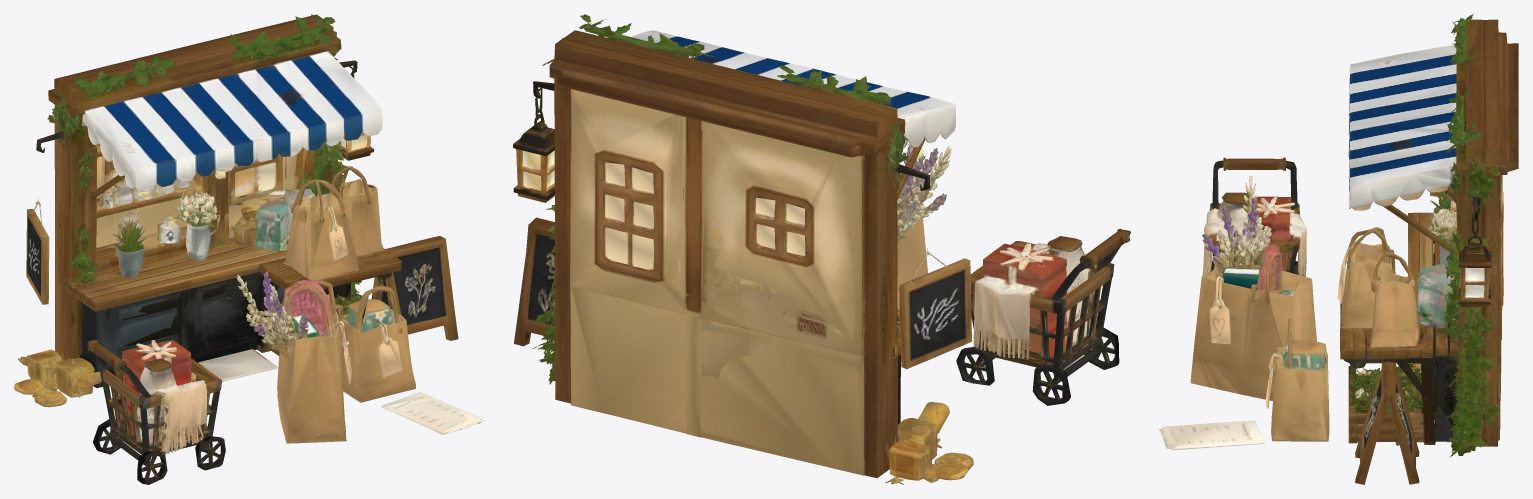
Rendered from buy.glb.
3 renders of one model, left to right at view 1: azimuth 30°, elevation 25°; view 2: azimuth 150°, elevation 25°; view 3: azimuth 270°, elevation 25°, orthographic. The views are drawn at different scales.
Parts seen in each view (by area): view 1: mesh_node; view 2: mesh_node; view 3: mesh_node.
Part boxes in pixels (x1,y1,x2,y2): mesh_node: (14,14,484,484); mesh_node: (513,14,1130,484); mesh_node: (1159,14,1518,484).
Bounding box in the file's own units: 1.89 × 1.37 × 1.42.
Materials: 1 (1 with a texture image).
